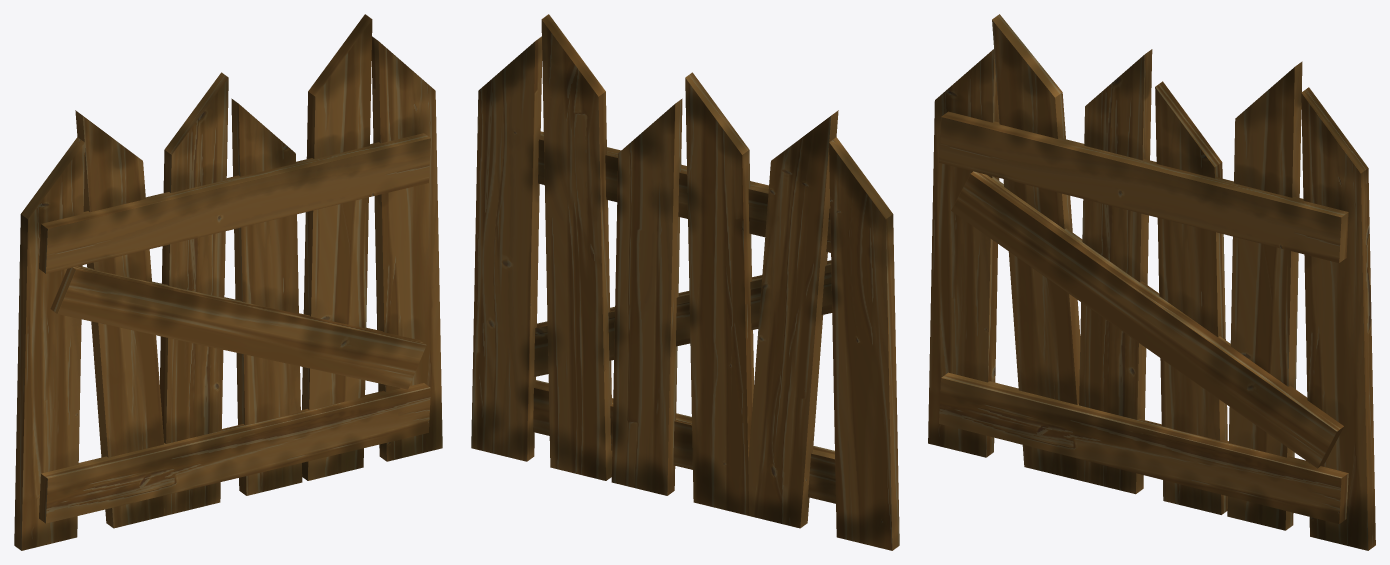
Rendered from fence-finish.fbx.
The picture shows the model from 3 angles, left to right: view 1: azimuth 30°, elevation 25°; view 2: azimuth 150°, elevation 25°; view 3: azimuth 330°, elevation 25°; orthographic projection. The views are drawn at different scales.
Visible parts, largest first — view 1: polySurface17, polySurface18, polySurface16, polySurface9, polySurface14, polySurface13, polySurface11, polySurface10, polySurface12; view 2: polySurface13, polySurface14, polySurface11, polySurface10, polySurface9, polySurface12, polySurface18, polySurface16, polySurface17; view 3: polySurface16, polySurface14, polySurface18, polySurface17, polySurface13, polySurface9, polySurface10, polySurface11, polySurface12.
Boxes of the visible parts, box(x1,y1,x2,y2) form: polySurface17: box(39, 133, 430, 273); polySurface18: box(39, 383, 430, 523); polySurface16: box(50, 266, 426, 389); polySurface9: box(14, 137, 84, 550); polySurface14: box(371, 36, 442, 461); polySurface13: box(302, 14, 372, 480); polySurface11: box(160, 72, 228, 515); polySurface10: box(75, 110, 164, 528); polySurface12: box(231, 98, 302, 495); polySurface13: box(541, 14, 612, 480); polySurface14: box(471, 36, 542, 461); polySurface11: box(685, 72, 753, 515); polySurface10: box(748, 110, 838, 528); polySurface9: box(829, 137, 899, 550); polySurface12: box(611, 98, 682, 495); polySurface18: box(533, 380, 835, 503); polySurface16: box(534, 260, 832, 376); polySurface17: box(538, 131, 830, 252); polySurface16: box(951, 171, 1343, 468); polySurface14: box(1301, 87, 1375, 550); polySurface18: box(939, 372, 1348, 523); polySurface17: box(939, 111, 1348, 262); polySurface13: box(1227, 61, 1302, 530); polySurface9: box(928, 49, 999, 457); polySurface10: box(992, 14, 1081, 479); polySurface11: box(1077, 49, 1152, 494); polySurface12: box(1155, 81, 1227, 514).
Size of the model in its own units: 148 by 150 by 8.7.
1 material, 1 textured.
